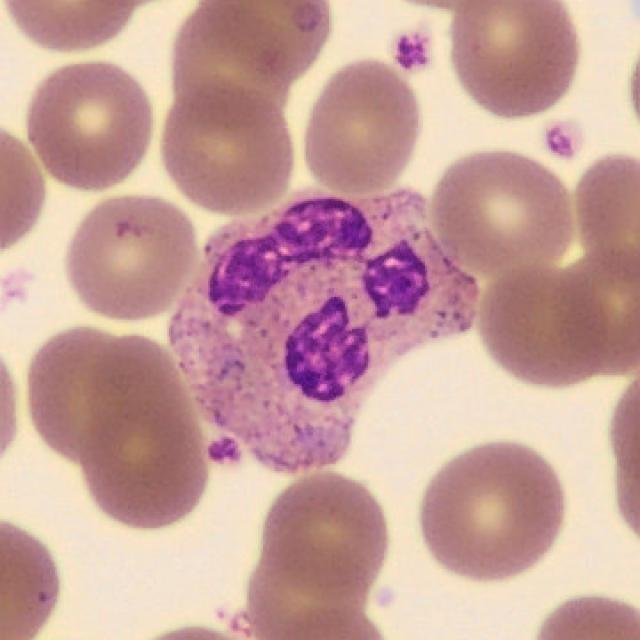Neutrofilo segmentado: (172, 194, 480, 476)
